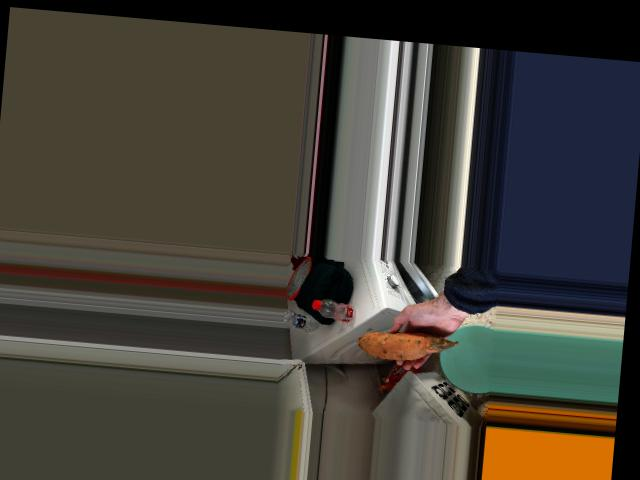sweet_potato: (356, 325, 454, 364)
